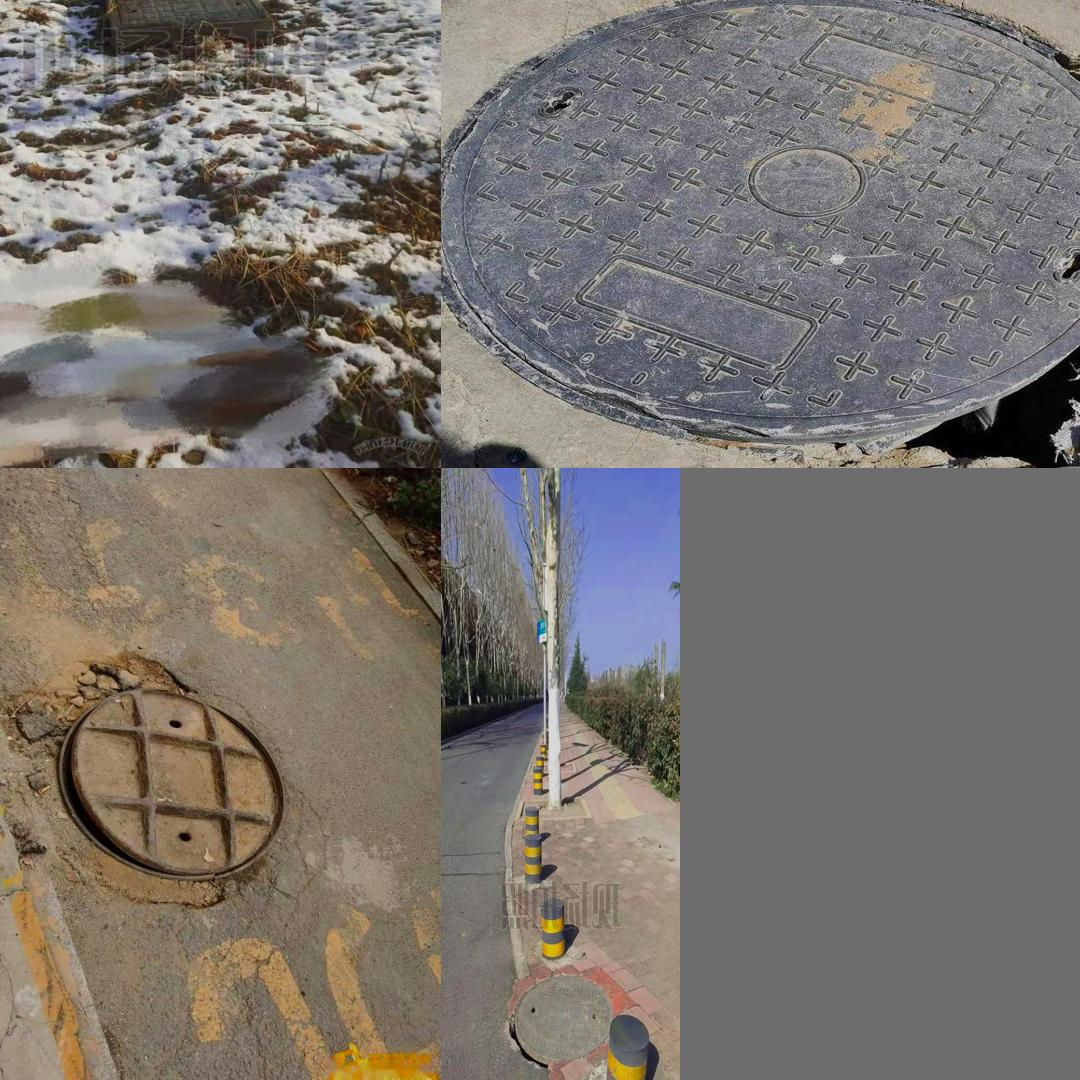circle: (457, 0, 1080, 453), (0, 647, 322, 925), (506, 968, 614, 1075), (94, 0, 286, 60)
